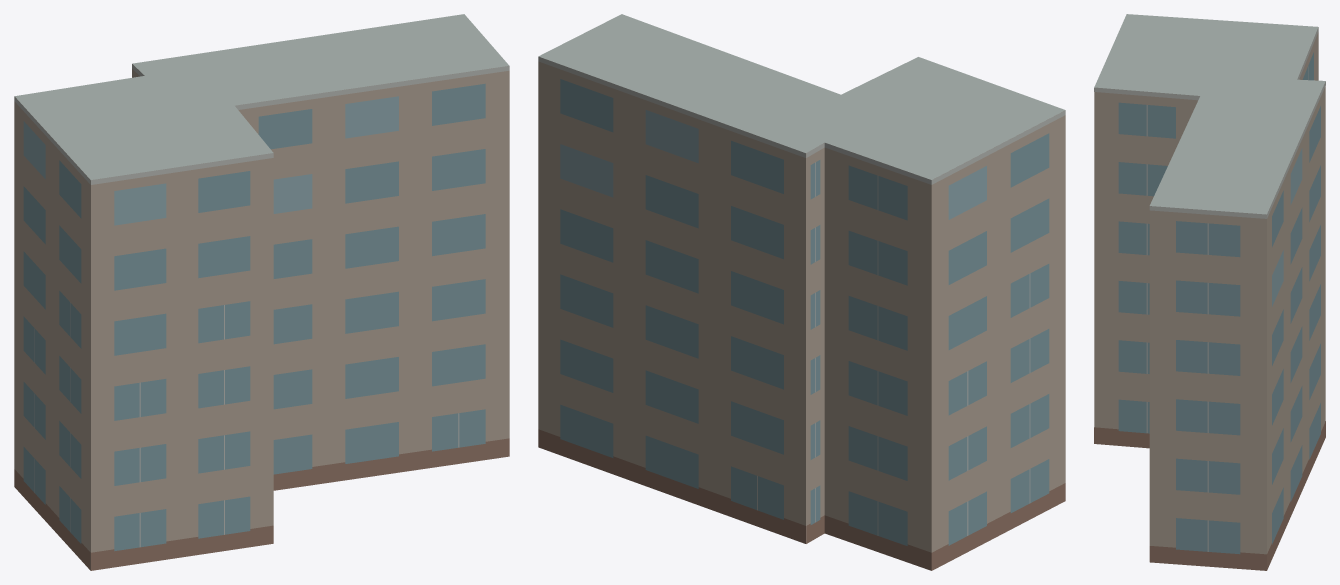
The model's file is survey-upis-32660127.glb.
The picture shows the model from 3 angles, left to right: view 1: azimuth 30°, elevation 25°; view 2: azimuth 150°, elevation 25°; view 3: azimuth 270°, elevation 25°; orthographic projection. The views are drawn at different scales.
Parts seen in each view (by area): view 1: survey-upis-32660127.tmp; view 2: survey-upis-32660127.tmp; view 3: survey-upis-32660127.tmp.
Part boxes in pixels (bbox=[...]): survey-upis-32660127.tmp: bbox=[14, 14, 509, 570]; survey-upis-32660127.tmp: bbox=[538, 14, 1065, 570]; survey-upis-32660127.tmp: bbox=[1094, 14, 1325, 570].
Size of the model in its own units: 23.54 by 19.5 by 11.5.
